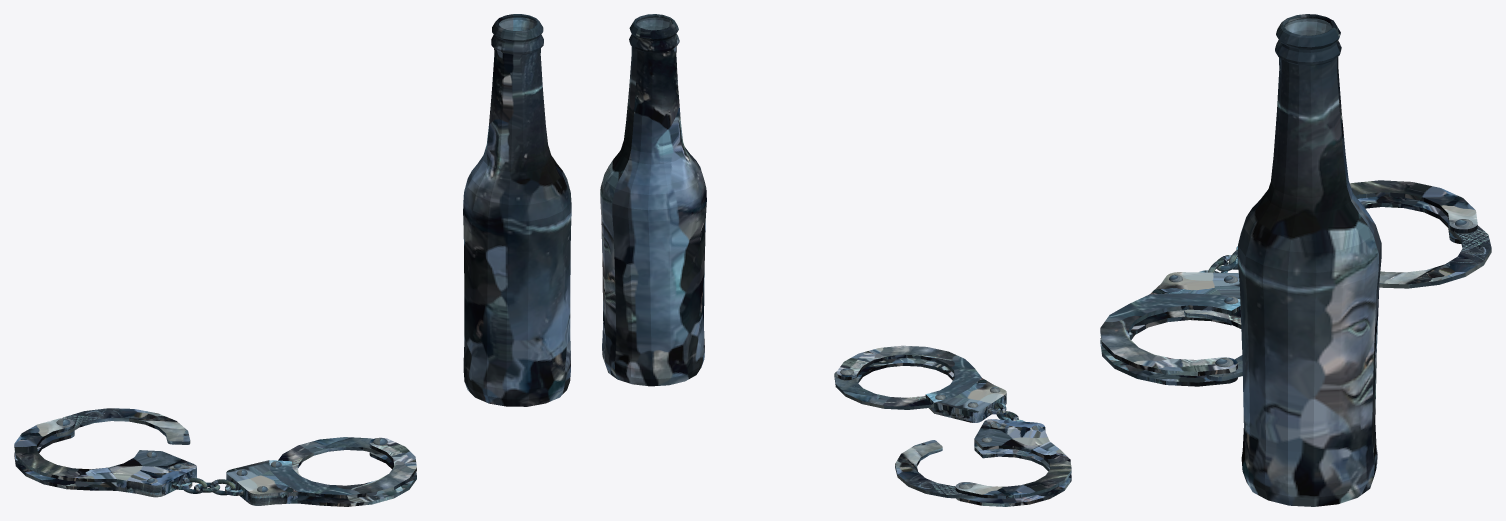
Rendered from futuristic_room_21.obj.
3 renders of one model, left to right at view 1: azimuth 30°, elevation 25°; view 2: azimuth 150°, elevation 25°; view 3: azimuth 270°, elevation 25°, orthographic. The views are drawn at different scales.
Bounding box in the file's own units: 0.4372 × 0.301 × 0.2316.
